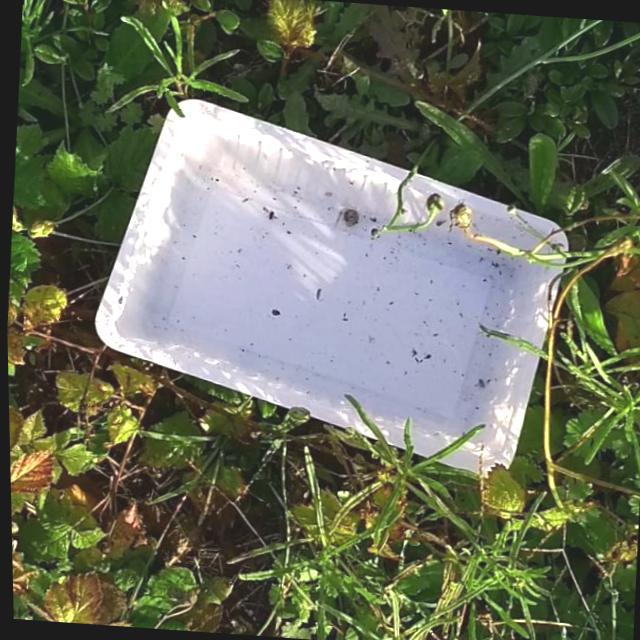Plastic: (78, 90, 582, 488)
